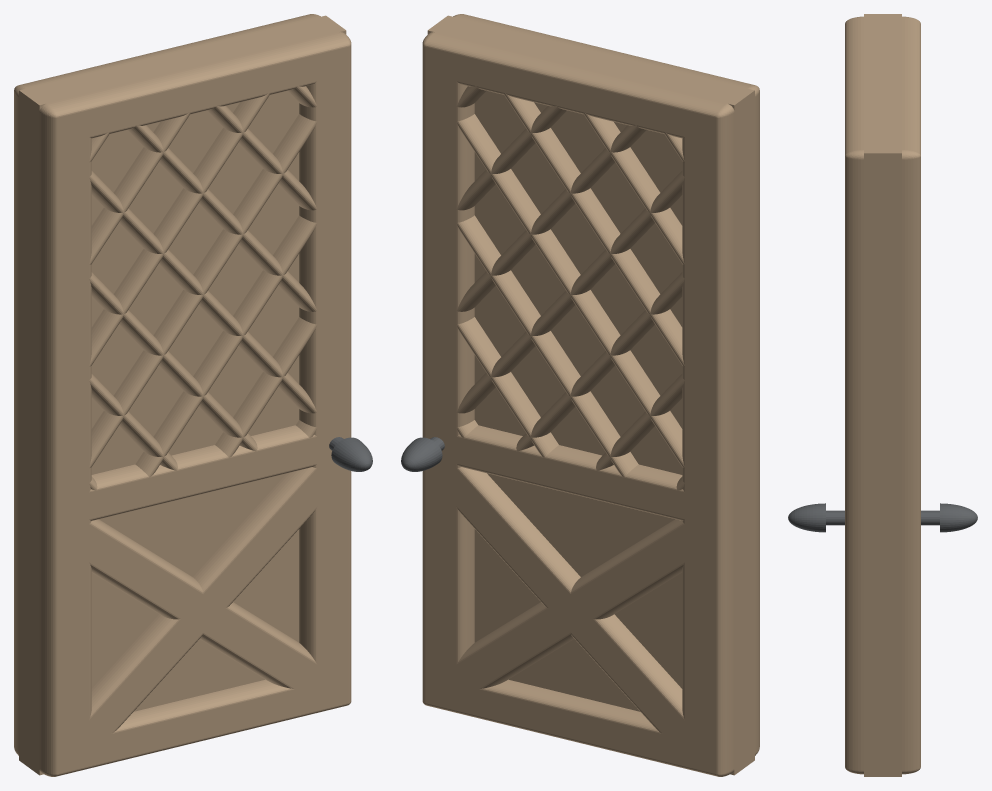
The model's file is big-door.glb.
The picture shows the model from 3 angles, left to right: view 1: azimuth 30°, elevation 25°; view 2: azimuth 150°, elevation 25°; view 3: azimuth 270°, elevation 25°; orthographic projection. The views are drawn at different scales.
Parts seen in each view (by area): view 1: Mesh_Mesh_head_geo.001_lambert2SG.001; view 2: Mesh_Mesh_head_geo.001_lambert2SG.001; view 3: Mesh_Mesh_head_geo.001_lambert2SG.001.
Part boxes in pixels (<box>): Mesh_Mesh_head_geo.001_lambert2SG.001: <box>14,14,372,776</box>; Mesh_Mesh_head_geo.001_lambert2SG.001: <box>401,14,759,776</box>; Mesh_Mesh_head_geo.001_lambert2SG.001: <box>788,14,977,776</box>.
Bounding box in the file's own units: 0.0139 × 0.029 × 0.008.
